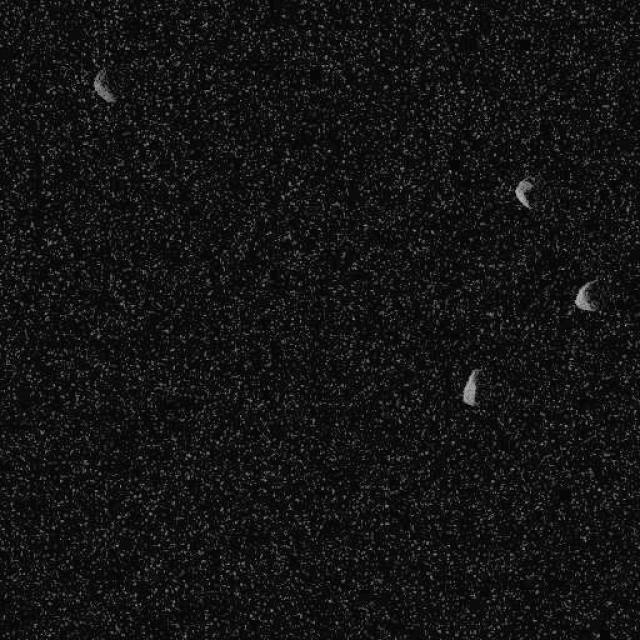D2: (91, 66, 118, 104), (572, 278, 602, 312), (460, 366, 481, 406), (513, 176, 535, 210)
